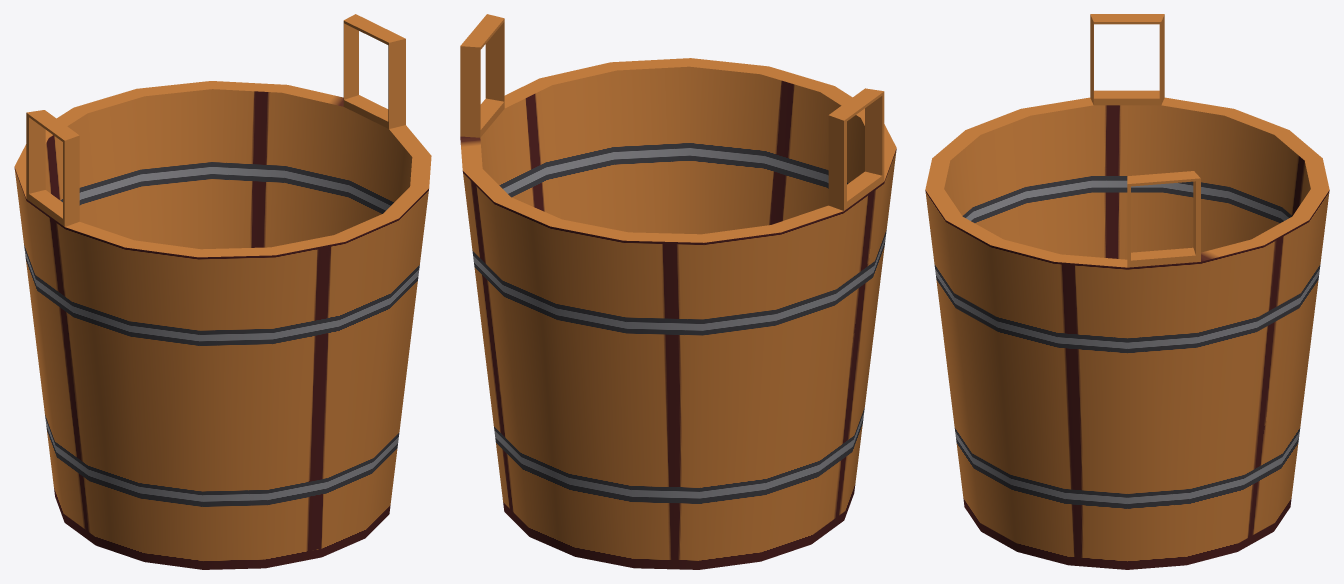
The model's file is WaxWorld_Bucket.fbx.
3 views of the same model, side by side, from view 1: azimuth 30°, elevation 25°; view 2: azimuth 150°, elevation 25°; view 3: azimuth 270°, elevation 25° (orthographic). The views are drawn at different scales.
Visible parts, largest first — view 1: Cylinder001, Object001; view 2: Cylinder001, Object001; view 3: Cylinder001, Object001.
Boxes of the visible parts, bbox=[...] form: Cylinder001: bbox=[14, 81, 431, 569]; Object001: bbox=[26, 14, 405, 226]; Cylinder001: bbox=[460, 58, 896, 569]; Object001: bbox=[460, 14, 884, 210]; Cylinder001: bbox=[925, 97, 1329, 569]; Object001: bbox=[1090, 14, 1200, 267].
Bounding box in the file's own units: 22.74 × 25.08 × 22.84.
2 materials, 2 textured.
